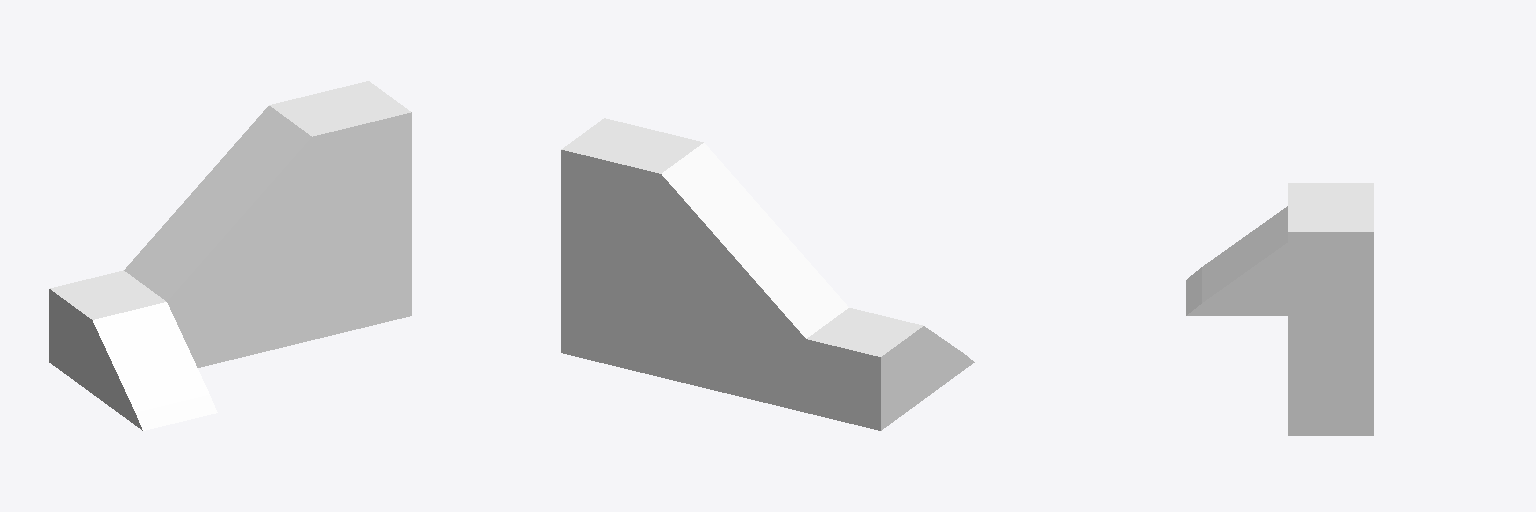
File: stairs1.obj
3 renders of one model, left to right at view 1: azimuth 30°, elevation 25°; view 2: azimuth 150°, elevation 25°; view 3: azimuth 270°, elevation 25°, orthographic.
Parts seen in each view (by area): view 1: mesh01; view 2: mesh01; view 3: mesh01.
Boxes of the visible parts, <box> form: mesh01: <box>49,81,411,430</box>; mesh01: <box>561,118,974,430</box>; mesh01: <box>1186,183,1373,435</box>.
Size of the model in its own units: 180 by 109 by 91.51.